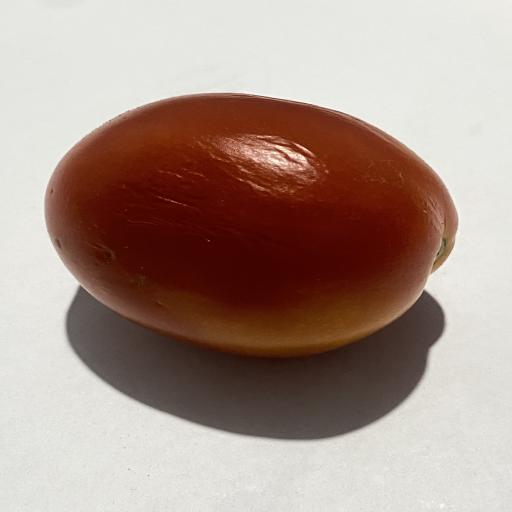spoiled: (45, 93, 457, 357)
